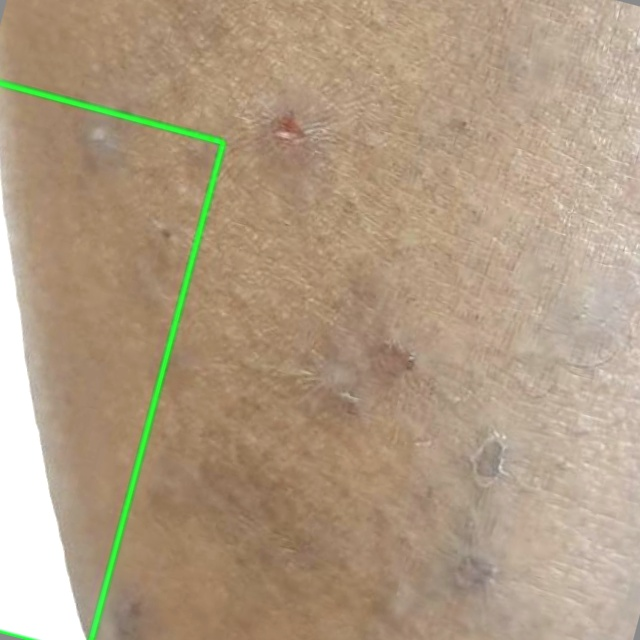Atopic Dermatitis: (0, 83, 223, 639)
